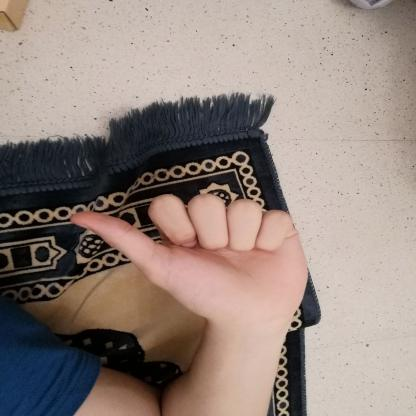DAD: (60, 182, 325, 336)
